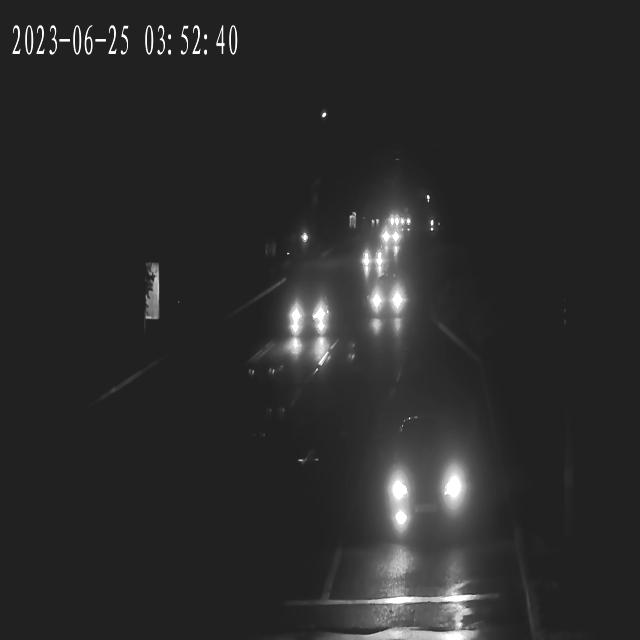Car: (376, 420, 476, 534), (281, 288, 332, 341), (367, 278, 406, 318), (360, 244, 387, 270), (377, 226, 399, 246), (379, 228, 402, 247), (381, 213, 400, 226), (386, 214, 404, 227), (399, 216, 416, 229), (394, 216, 410, 228)
